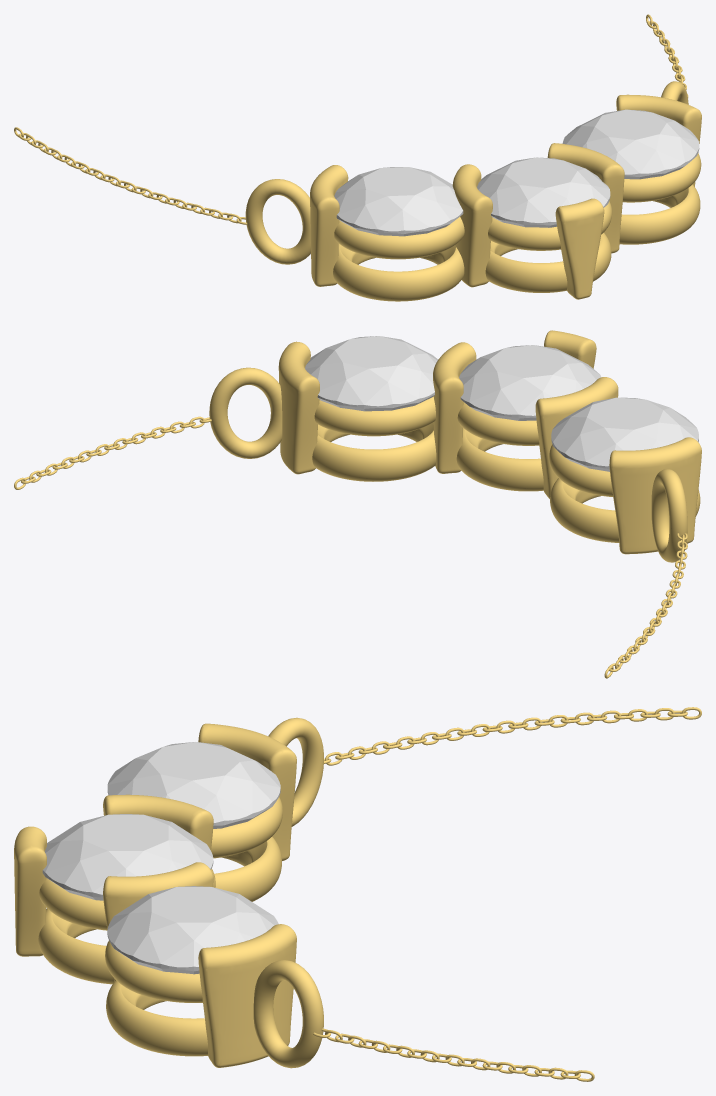
Rendered from MarybezelYGpendant_blender.glb.
3 views of the same model, one above another, from view 1: azimuth 30°, elevation 25°; view 2: azimuth 150°, elevation 25°; view 3: azimuth 270°, elevation 25° (orthographic). The views are drawn at different scales.
Visible parts, largest first — view 1: Mary YG v1 for 3d model, Mary dia for 3d model, Mary dia for 3d model.002, Mary dia for 3d model.001; view 2: Mary YG v1 for 3d model, Mary dia for 3d model.001, Mary dia for 3d model.002, Mary dia for 3d model; view 3: Mary YG v1 for 3d model, Mary dia for 3d model.001, Mary dia for 3d model.002, Mary dia for 3d model.
Part boxes in pixels (x1,y1,x2,y2): Mary YG v1 for 3d model: [14, 14, 701, 301]; Mary dia for 3d model: [334, 167, 463, 236]; Mary dia for 3d model.002: [477, 157, 610, 227]; Mary dia for 3d model.001: [562, 109, 699, 179]; Mary YG v1 for 3d model: [14, 330, 701, 678]; Mary dia for 3d model.001: [305, 336, 437, 411]; Mary dia for 3d model.002: [459, 345, 600, 420]; Mary dia for 3d model: [551, 397, 698, 471]; Mary YG v1 for 3d model: [14, 707, 701, 1081]; Mary dia for 3d model.001: [107, 886, 278, 974]; Mary dia for 3d model.002: [42, 814, 213, 900]; Mary dia for 3d model: [107, 742, 280, 828].
Size of the model in its own units: 30.06 by 4.62 by 23.83.
